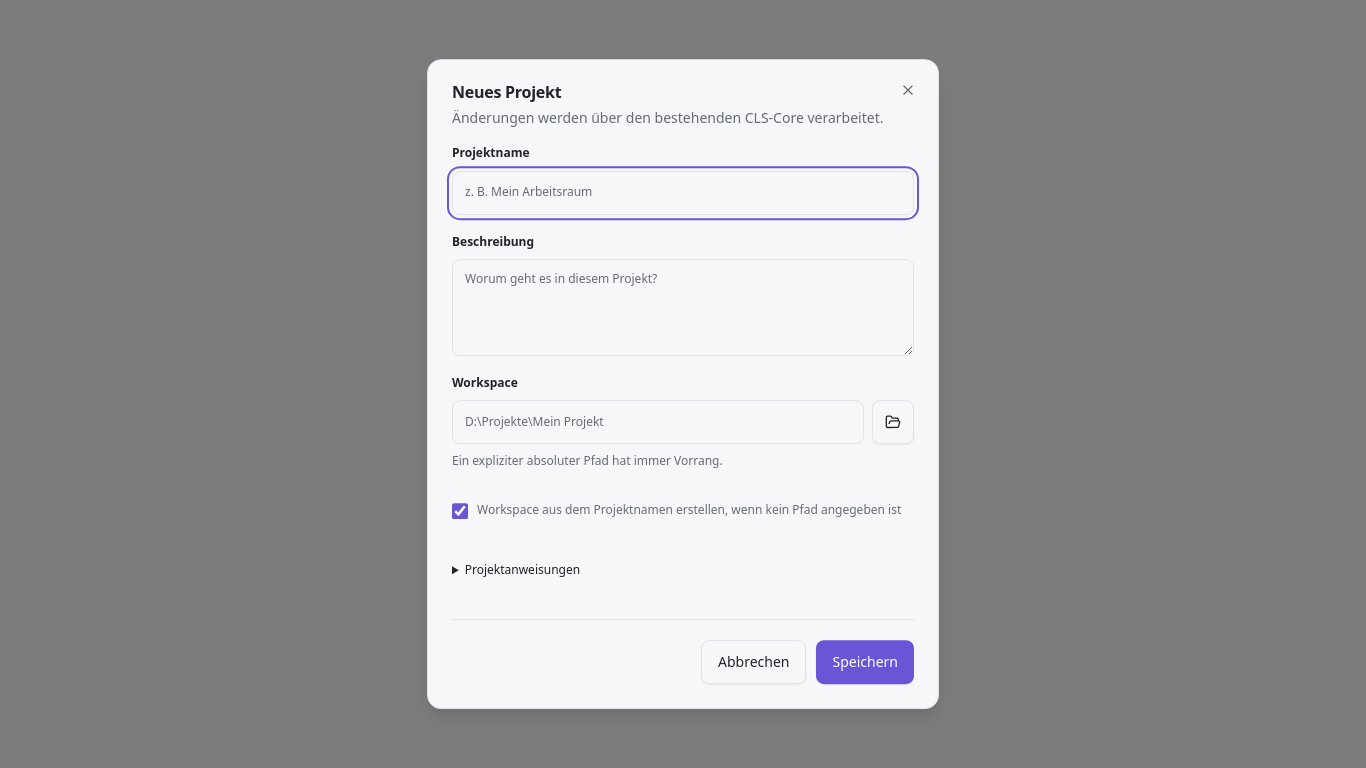
Test: desktop interactions › shows backend validation errors without closing an editor or claiming success
The width and height of the screenshot is (1366, 768).
Type "Blocked" into the field labelled "Projektname" at (683, 193), box [452,171,914,215]
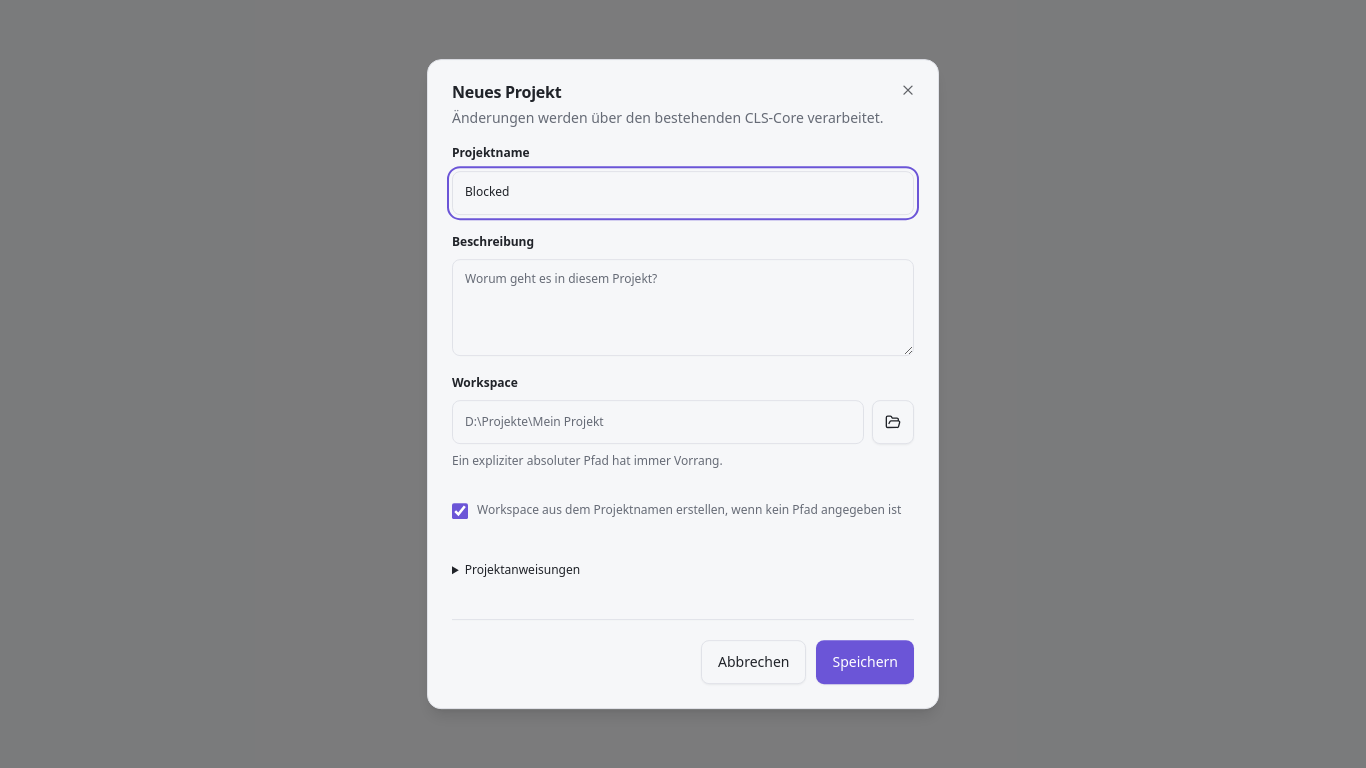
Click the button "Speichern" at (865, 662), box [816,640,914,684]
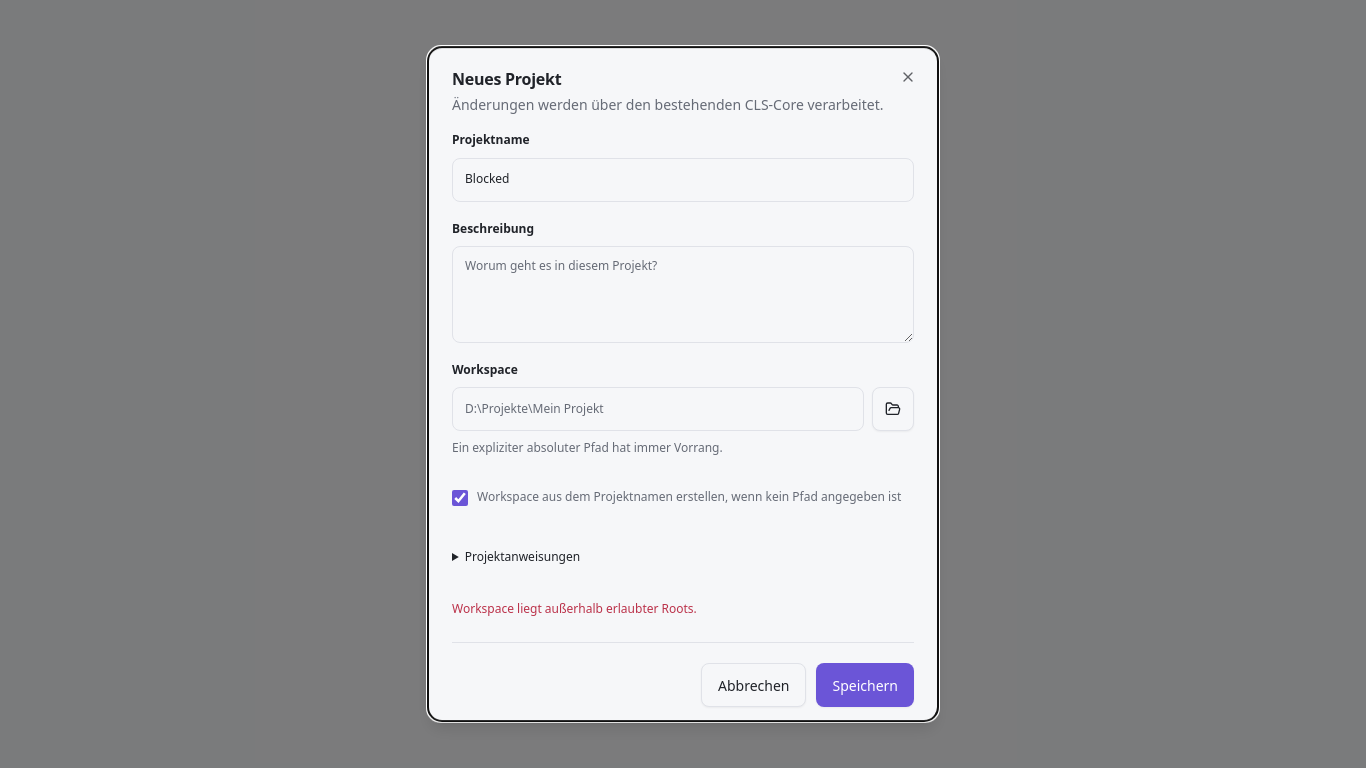
Now the message shows "außerhalb", box [452,600,697,617]
